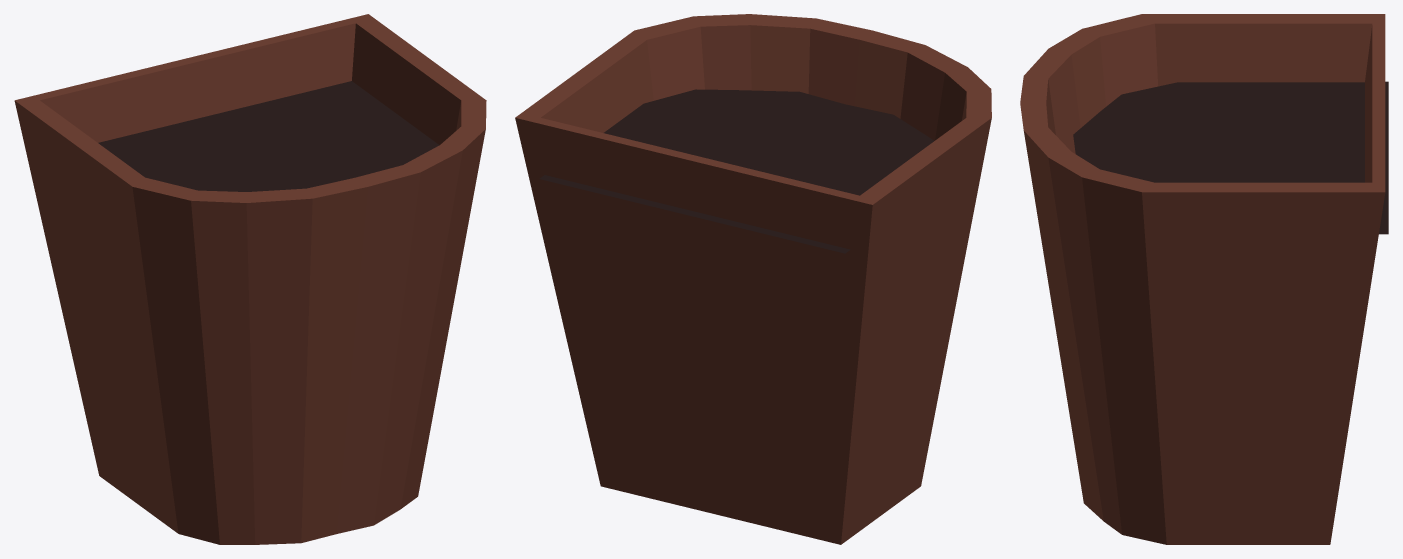
File: MBJ_PlantPack01_Pot05_LOD3_v001.fbx
The picture shows the model from 3 angles, left to right: view 1: azimuth 30°, elevation 25°; view 2: azimuth 150°, elevation 25°; view 3: azimuth 270°, elevation 25°; orthographic projection. The views are drawn at different scales.
Parts seen in each view (by area): view 1: PlantPot05_C.001; view 2: PlantPot05_C.001; view 3: PlantPot05_C.001.
Boxes of the visible parts, bbox=[...] form: PlantPot05_C.001: bbox=[14, 14, 486, 544]; PlantPot05_C.001: bbox=[515, 14, 991, 544]; PlantPot05_C.001: bbox=[1020, 14, 1388, 544].
Bounding box in the file's own units: 46.06 × 46.02 × 40.26.
